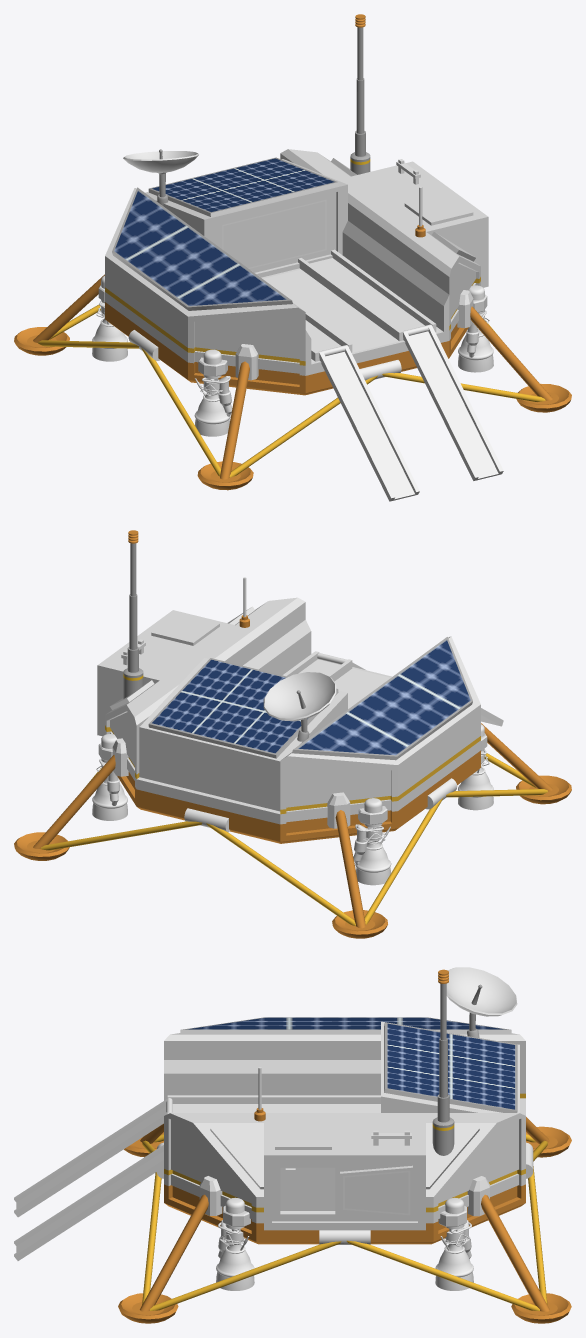
The model's file is Lander.fbx.
The picture shows the model from 3 angles, top to bottom: view 1: azimuth 30°, elevation 25°; view 2: azimuth 150°, elevation 25°; view 3: azimuth 270°, elevation 25°; orthographic projection. The views are drawn at different scales.
Parts seen in each view (by area): view 1: LanderAnimated; view 2: LanderAnimated; view 3: LanderAnimated.
Part boxes in pixels (x1,y1,x2,y2): LanderAnimated: [14, 14, 571, 501]; LanderAnimated: [14, 530, 571, 938]; LanderAnimated: [14, 967, 571, 1323].
Size of the model in its own units: 80.09 by 62.62 by 98.43.
